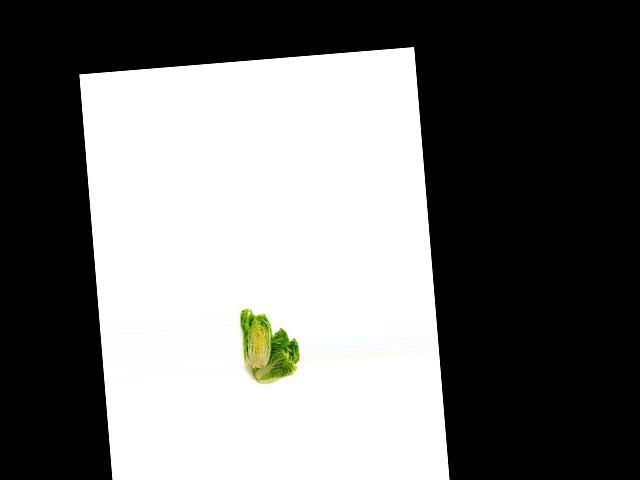lettuce: (246, 323, 304, 386)
